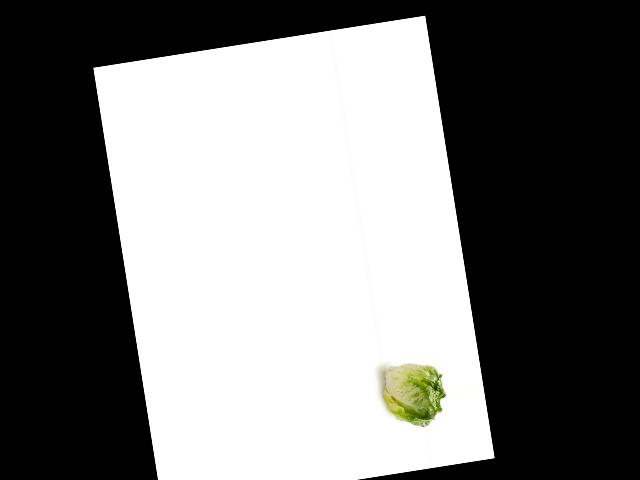lettuce: (379, 353, 452, 435)
